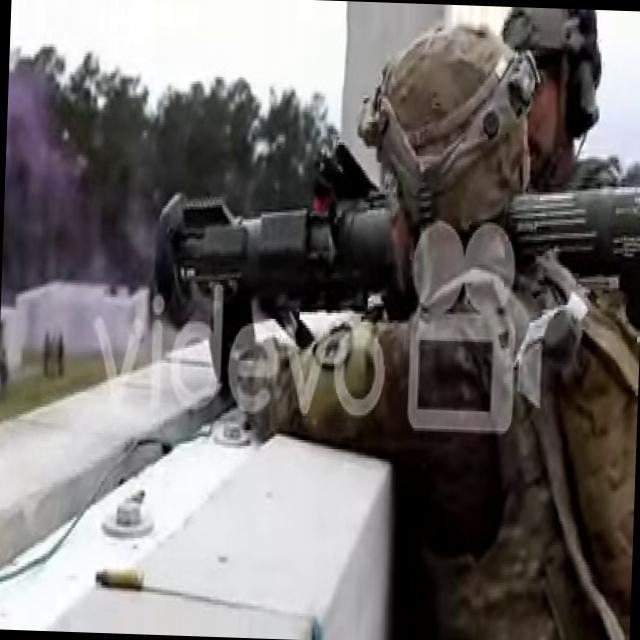rocket: (152, 168, 640, 345)
